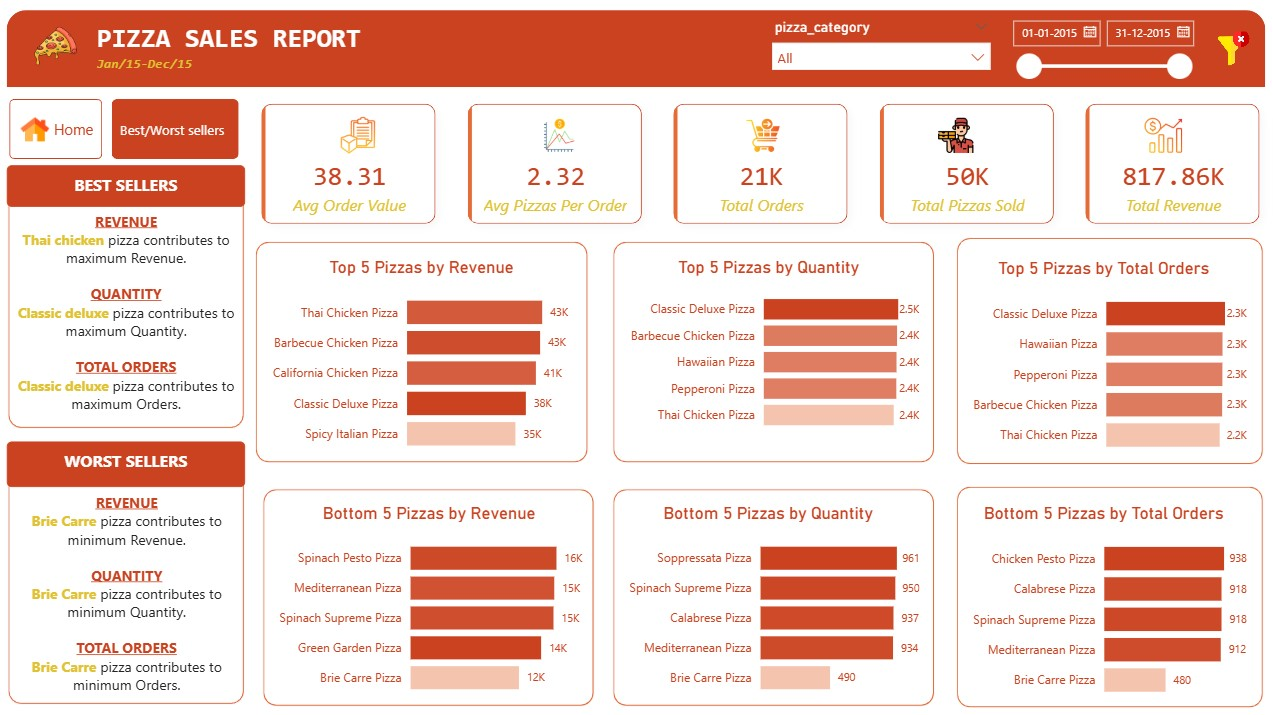

The page's visual inventory and layout, read from the dashboard file:
{"tool":"powerbi","page":{"name":"Best/Worst sellers","canvas":[1280,720],"ordinal":1},"visuals":[{"type":"shape","box":[8.6,11.4,1258.6,77.1],"z":0},{"type":"textbox","box":[93.8,18.8,426.2,50],"z":1000},{"type":"textbox","box":[93.8,50,113.8,31.2],"z":2000},{"type":"shape","box":[256.6,241.5,334.8,223.7],"z":3000},{"type":"image","box":[32.5,25,50,43.8],"z":4000},{"type":"cardVisual","fields":{"Data":["pizza_sales.Avg Order Value","pizza_sales.Avg Pizzas Per Order","pizza_sales.Total Orders","pizza_sales.Total Pizzas Sold","pizza_sales.Total Revenue"]},"box":[247.1,88.6,1032.9,152.9],"z":5000},{"type":"image","box":[530.7,117.4,59.9,37.9],"z":6000},{"type":"image","box":[736.1,117.4,57.5,37.9],"z":7000},{"type":"image","box":[925.7,117.4,63.6,37.9],"z":8000},{"type":"image","box":[328.9,117.4,62.4,37.9],"z":9000},{"type":"image","box":[1142.1,117.4,45.2,37.9],"z":10000},{"type":"shape","box":[263.5,488.5,333.4,219.6],"z":11000},{"type":"slicer","fields":{"Values":["pizza_sales.pizza_category"]},"box":[763.8,15,238.8,70],"z":12000},{"type":"slicer","fields":{"Values":["pizza_sales.order_date"]},"box":[1002.5,11.2,200,88.8],"z":13000},{"type":"shape","box":[8.6,175.7,238.6,254.3],"z":14000},{"type":"textbox","box":[8.6,165.7,238.6,41.4],"z":15000},{"type":"textbox","box":[8.2,207.2,238.8,222.3],"z":16000},{"type":"textbox","box":[9.6,488.5,237.4,231.9],"z":17000},{"type":"shape","box":[8.2,465.2,238.8,241.5],"z":18000},{"type":"textbox","box":[8.6,442.9,238.6,45.7],"z":19000},{"type":"clusteredBarChart","title":"Top 5 Pizzas by Revenue","fields":{"Y":["pizza_sales.Total Revenue"],"Category":["pizza_sales.pizza_name (Renamed)"]},"box":[256.6,258,334.8,207.2],"z":20000},{"type":"barChart","title":"Bottom 5 Pizzas by Revenue","fields":{"Y":["pizza_sales.Total Revenue"],"Category":["pizza_sales.pizza_name (Renamed)"]},"box":[263.5,503.6,334.8,204.5],"z":21000},{"type":"shape","box":[613.4,241.5,323.8,223.7],"z":22000},{"type":"clusteredBarChart","title":"Top 5 Pizzas by Quantity","fields":{"Category":["pizza_sales.pizza_name (Renamed)"],"Y":["Sum(pizza_sales.quantity)"]},"box":[614.8,258,311.5,185.2],"z":23000},{"type":"shape","box":[613.4,488.5,323.8,219.6],"z":24000},{"type":"clusteredBarChart","title":"Bottom 5 Pizzas by Quantity","fields":{"Category":["pizza_sales.pizza_name (Renamed)"],"Y":["Sum(pizza_sales.quantity)"]},"box":[613.4,503.6,312.9,204.5],"z":25000},{"type":"clusteredBarChart","title":"Top 5 Pizzas by Total Orders","fields":{"Category":["pizza_sales.pizza_name (Renamed)"],"Y":["pizza_sales.Total Orders"]},"box":[957.8,258,308.7,207.2],"z":26000},{"type":"shape","box":[957.8,485.8,308.7,223.7],"z":27000},{"type":"shape","box":[957.8,237.4,308.7,229.2],"z":28000},{"type":"clusteredBarChart","title":"Top 5 Pizzas by Total Orders","fields":{"Category":["pizza_sales.pizza_name (Renamed)"],"Y":["pizza_sales.Total Orders"]},"box":[957.8,259.3,296.4,207.2],"z":29000},{"type":"clusteredBarChart","title":"Bottom 5 Pizzas by Total Orders","fields":{"Category":["pizza_sales.pizza_name (Renamed)"],"Y":["pizza_sales.Total Orders"]},"box":[957.8,503.6,296.4,207.2],"z":30000},{"type":"pageNavigator","box":[11,100.3,93.4,60.4],"z":31000},{"type":"pageNavigator","box":[114,100.3,127.8,60.4],"z":32000},{"type":"image","box":[22,97.5,28.8,65.9],"z":33000},{"type":"actionButton","box":[1217.5,32.5,36.2,33.8],"z":33001}]}

Visuals, with their boxes in screenshot pixels (x1, y1, x2, y2), scaled from the page's 1280x720 canvas onto the 1273x715 screenshot:
shape: bbox=(9, 11, 1260, 88)
textbox: bbox=(93, 19, 517, 68)
textbox: bbox=(93, 50, 206, 81)
shape: bbox=(255, 240, 588, 462)
image: bbox=(32, 25, 82, 68)
cardVisual - pizza_sales.Avg Order Value x pizza_sales.Avg Pizzas Per Order: bbox=(246, 88, 1272, 240)
image: bbox=(528, 117, 587, 154)
image: bbox=(732, 117, 789, 154)
image: bbox=(921, 117, 984, 154)
image: bbox=(327, 117, 389, 154)
image: bbox=(1136, 117, 1181, 154)
shape: bbox=(262, 485, 594, 703)
slicer - pizza_sales.pizza_category: bbox=(760, 15, 997, 84)
slicer - pizza_sales.order_date: bbox=(997, 11, 1196, 99)
shape: bbox=(9, 174, 246, 427)
textbox: bbox=(9, 165, 246, 206)
textbox: bbox=(8, 206, 246, 427)
textbox: bbox=(10, 485, 246, 714)
shape: bbox=(8, 462, 246, 702)
textbox: bbox=(9, 440, 246, 485)
"Top 5 Pizzas by Revenue" clusteredBarChart: bbox=(255, 256, 588, 462)
"Bottom 5 Pizzas by Revenue" barChart: bbox=(262, 500, 595, 703)
shape: bbox=(610, 240, 932, 462)
"Top 5 Pizzas by Quantity" clusteredBarChart: bbox=(611, 256, 921, 440)
shape: bbox=(610, 485, 932, 703)
"Bottom 5 Pizzas by Quantity" clusteredBarChart: bbox=(610, 500, 921, 703)
"Top 5 Pizzas by Total Orders" clusteredBarChart: bbox=(953, 256, 1260, 462)
shape: bbox=(953, 482, 1260, 705)
shape: bbox=(953, 236, 1260, 463)
"Top 5 Pizzas by Total Orders" clusteredBarChart: bbox=(953, 257, 1247, 463)
"Bottom 5 Pizzas by Total Orders" clusteredBarChart: bbox=(953, 500, 1247, 706)
pageNavigator: bbox=(11, 100, 104, 160)
pageNavigator: bbox=(113, 100, 240, 160)
image: bbox=(22, 97, 51, 162)
actionButton: bbox=(1211, 32, 1247, 66)
